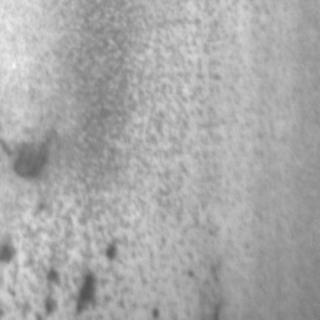patches: (0, 123, 56, 179)
pitted_surface: (44, 2, 228, 312)
